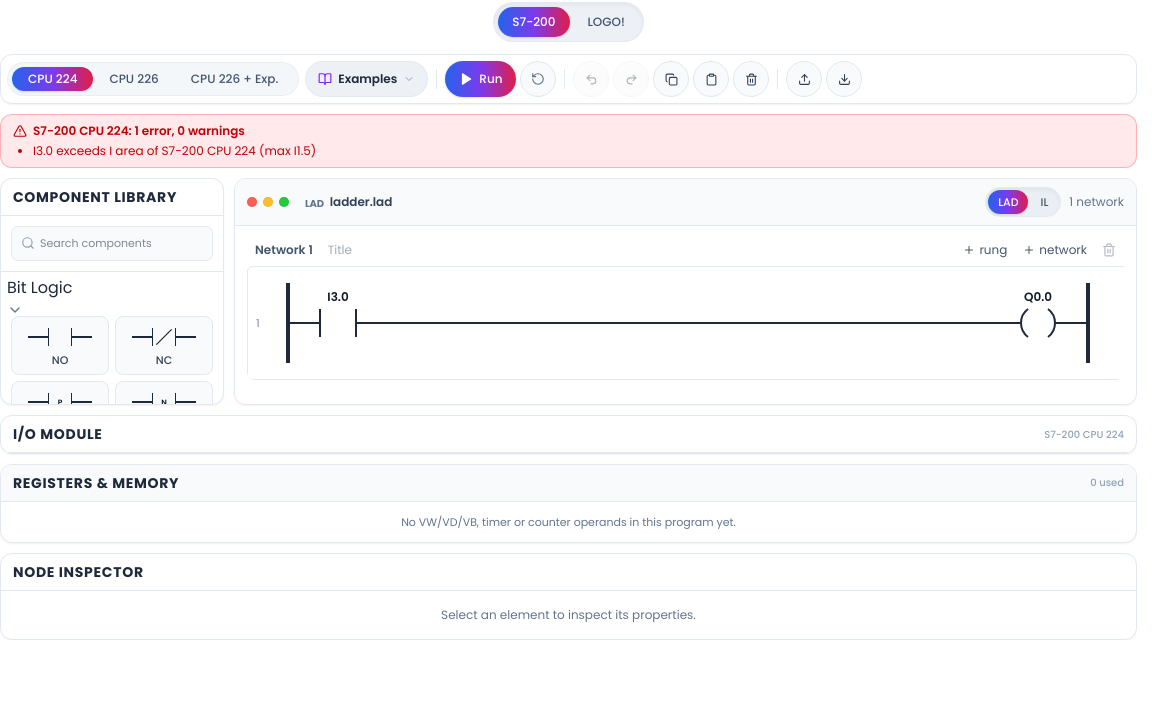
Test: S7-200 host › refuses to run a program that does not compile for the profile
Click the button "Run" at [481, 79], box [445,61,516,97]
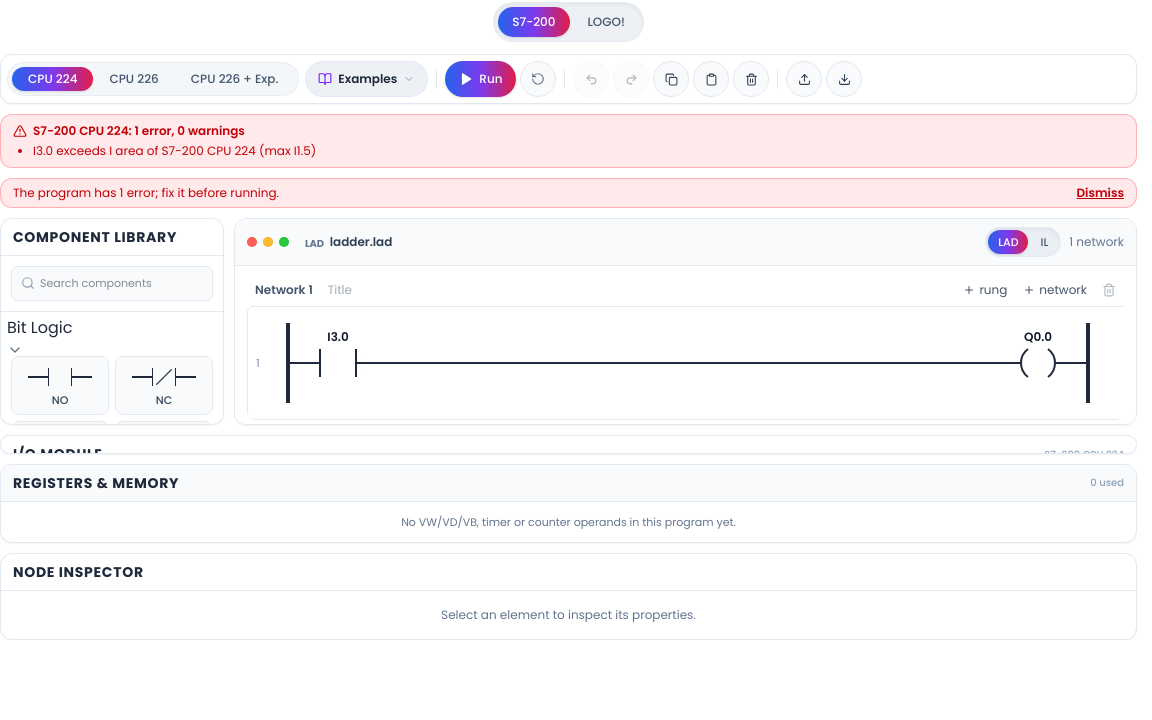
Check: the message shows "error", box [13,184,279,201]
